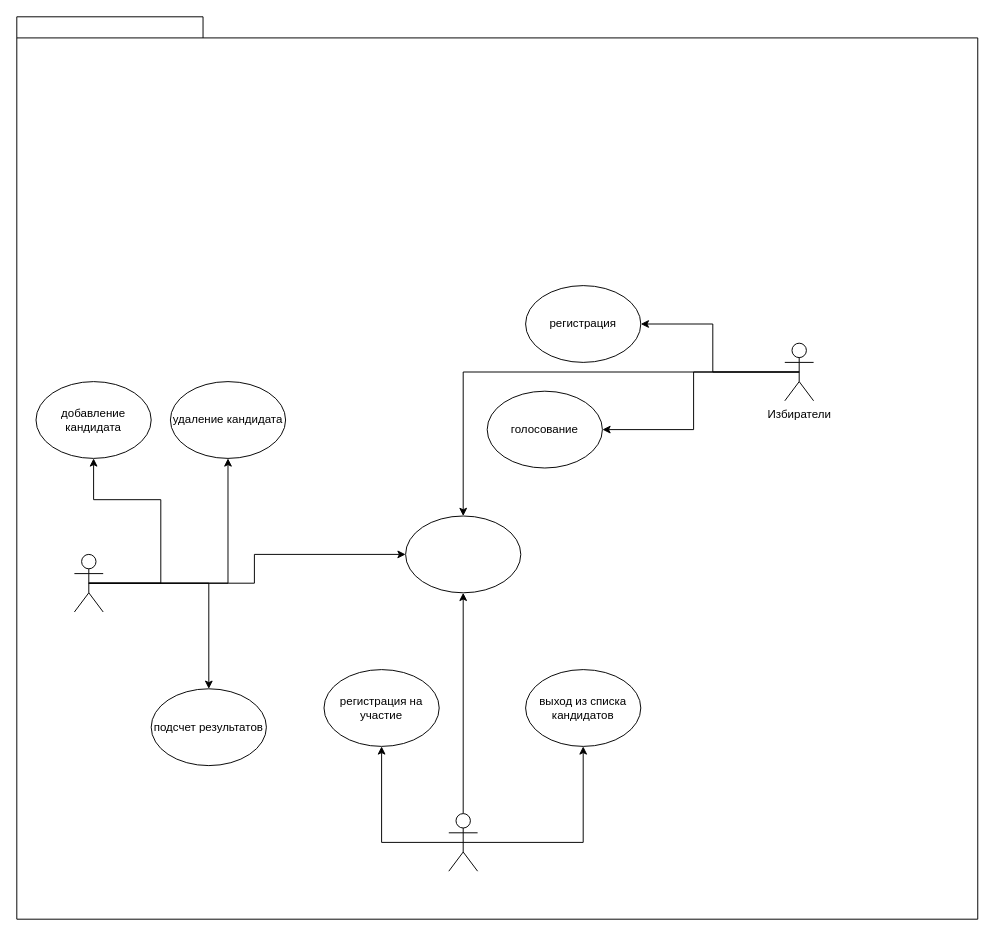
This 995x936 diagram has some shape labels left out. Here are the shapes that lost their labels. From the top down, the centre of each, then its label:
At (463,554): "просмотр результатов".
At (88,582): "Администратор".
At (463,842): "кандидат".
